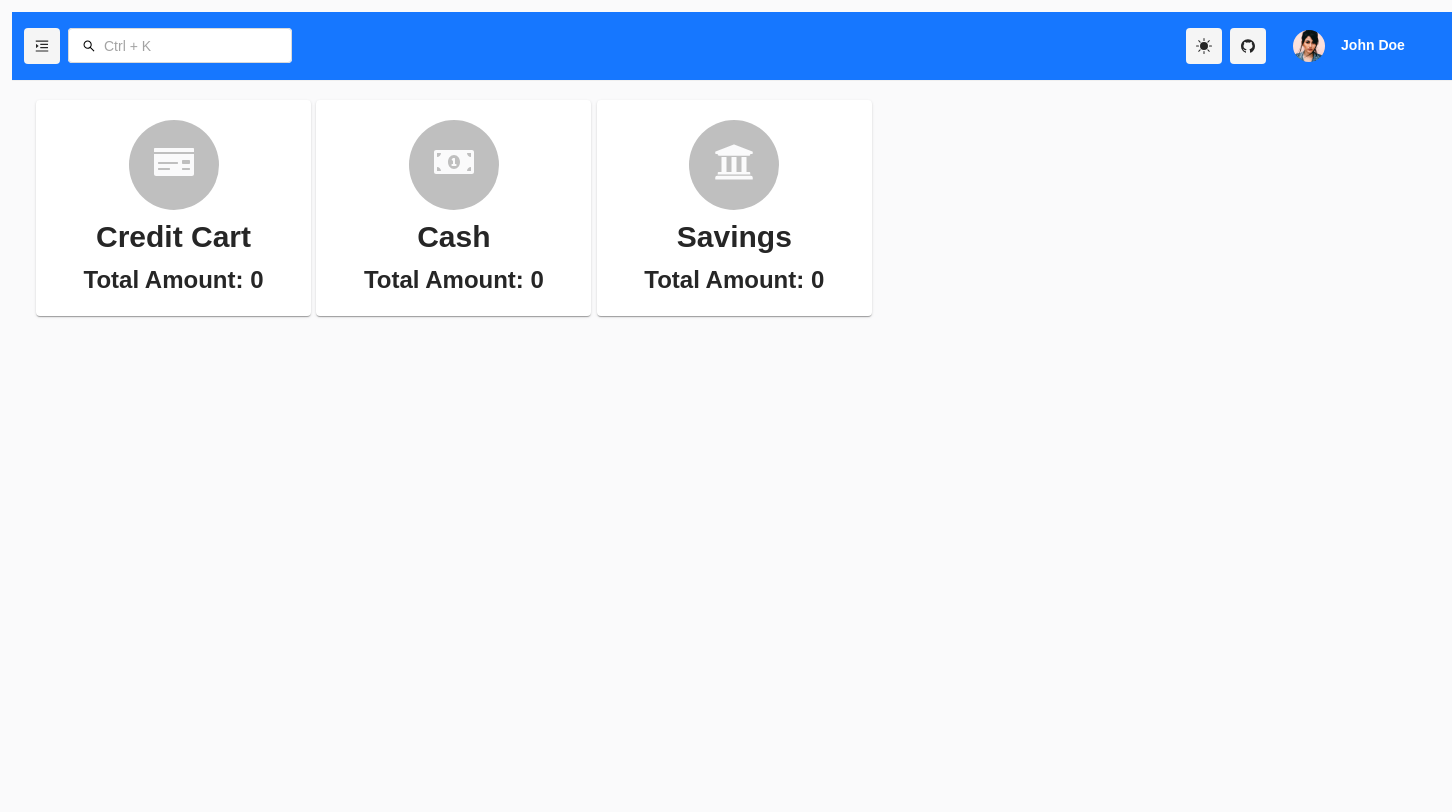
Scenario: Home should be render desktop layout layout › When Menu button was preset the sidebar should be visible
Click the button with class "MoreButton" at (42, 46), box [24,28,60,64]
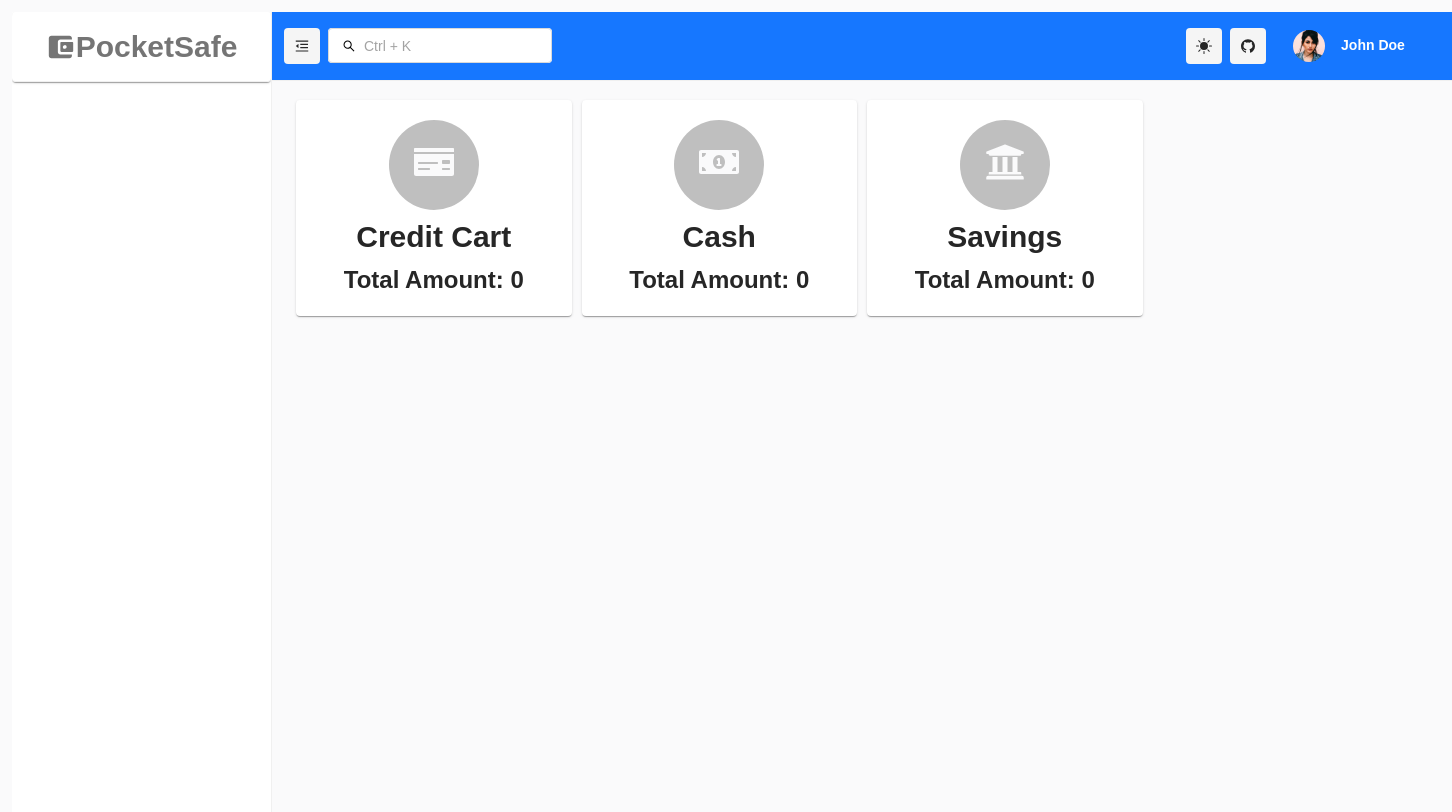
Now the element showing "PocketSafe" is shown, box [12,12,272,811]
